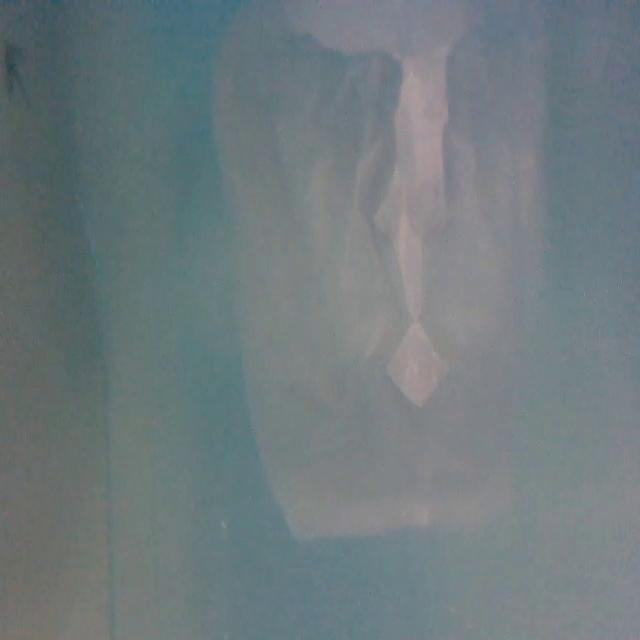plastic bags: (223, 0, 549, 538)
